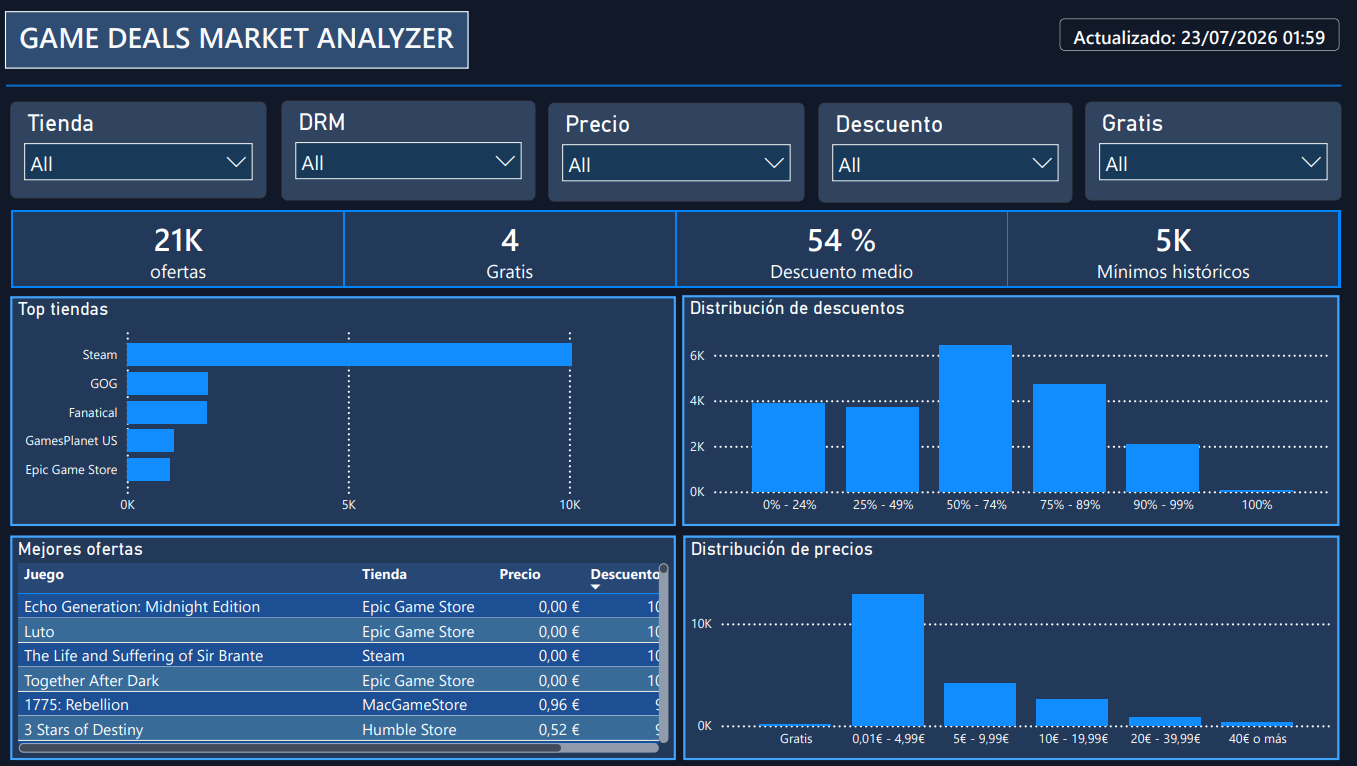

What the dashboard file says about the page in this screenshot:
{"tool":"powerbi","page":{"name":"Overview","canvas":[1280,720],"ordinal":0},"visuals":[{"type":"textbox","box":[7.1,10,435.7,54.3],"z":0},{"type":"shape","box":[7.6,65.2,1256.1,30.3],"z":1000},{"type":"slicer","fields":{"Values":["shops.shop_name"]},"box":[11.5,94.9,241,91],"z":2000},{"type":"slicer","fields":{"Values":["deals.discount_range"]},"box":[772.3,95.5,238.8,94.7],"z":3000},{"type":"slicer","fields":{"Values":["deals.price_range"]},"box":[518.4,95.5,240.1,93.3],"z":4000},{"type":"slicer","fields":{"Values":["drms.drm_name"]},"box":[266.7,93.6,239.7,94.9],"z":5000},{"type":"slicer","fields":{"Values":["deals.is_free"]},"box":[1023.1,94.9,241,93.6],"z":6000},{"type":"clusteredBarChart","title":"Top tiendas","fields":{"Category":["shops.shop_name"],"Y":["deals.ofertas"]},"box":[12.2,277.8,625.6,216.7],"z":7000},{"type":"columnChart","title":"Distribución de descuentos","fields":{"Category":["deals.discount_range"],"Y":["deals.ofertas"]},"box":[643.9,277.3,618.2,216.7],"z":8000},{"type":"columnChart","title":"Distribución de precios","fields":{"Category":["deals.price_range"],"Y":["deals.ofertas"]},"box":[645.5,503,616.7,210.6],"z":9000},{"type":"tableEx","title":"Mejores ofertas","fields":{"Values":["games.title","shops.shop_name","Sum(deals.current_price)","deals.discount_cut","Sum(deals.saving_amount)"]},"box":[12.1,503,625.8,210.6],"z":10000},{"type":"cardVisual","fields":{"Data":["Actualizacion.Última actualización"]},"box":[982.4,0,297.1,64.7],"z":11000},{"type":"cardVisual","fields":{"Data":["deals.ofertas","deals.Gratis","deals.Descuento medio","deals.Mínimos históricos"]},"box":[7.6,192.4,1260.6,83],"z":12000}]}

Visuals, with their boxes in screenshot pixels (x1, y1, x2, y2), scaled from the page's 1280x720 canvas onto the 1357x766 screenshot:
textbox: select_region(8, 11, 469, 68)
shape: select_region(8, 69, 1340, 102)
slicer - shops.shop_name: select_region(12, 101, 268, 198)
slicer - deals.discount_range: select_region(819, 102, 1072, 202)
slicer - deals.price_range: select_region(550, 102, 804, 201)
slicer - drms.drm_name: select_region(283, 100, 537, 201)
slicer - deals.is_free: select_region(1085, 101, 1340, 201)
"Top tiendas" clusteredBarChart: select_region(13, 296, 676, 526)
"Distribución de descuentos" columnChart: select_region(683, 295, 1338, 526)
"Distribución de precios" columnChart: select_region(684, 535, 1338, 759)
"Mejores ofertas" tableEx: select_region(13, 535, 676, 759)
cardVisual - Actualizacion.Última actualización: select_region(1041, 0, 1356, 69)
cardVisual - deals.ofertas x deals.Gratis: select_region(8, 205, 1344, 293)
